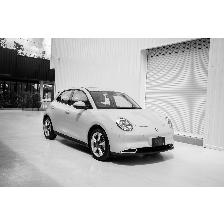EV: (42, 84, 177, 160)
